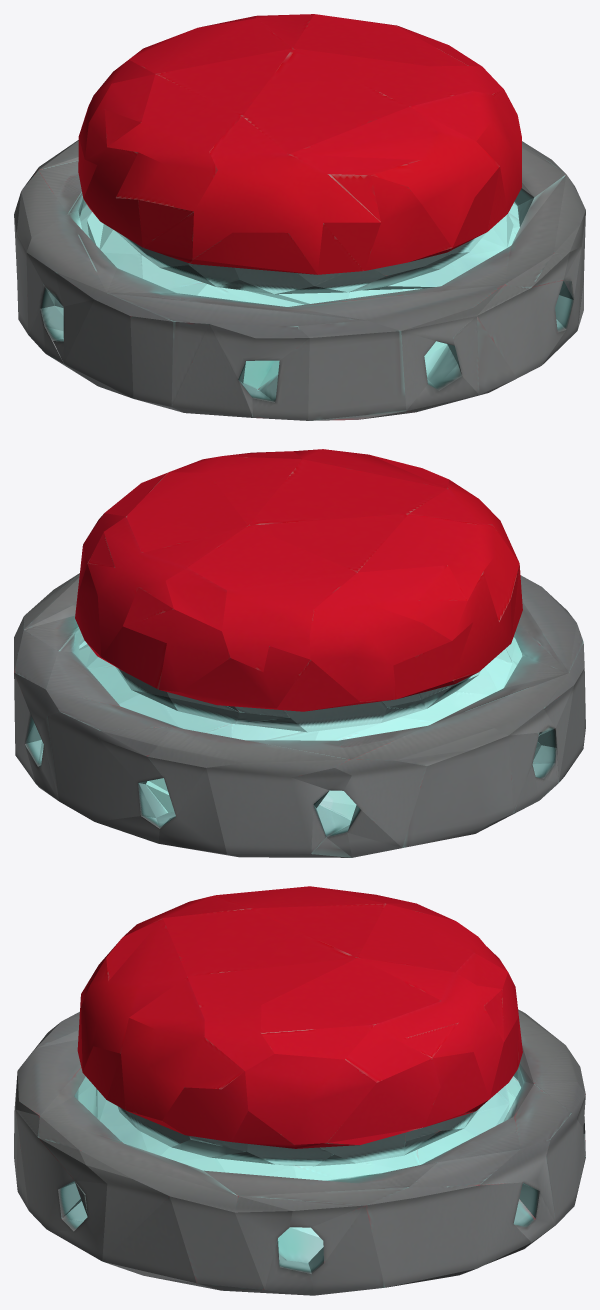
Rendered from switch.glb.
3 renders of one model, top to bottom at view 1: azimuth 30°, elevation 25°; view 2: azimuth 150°, elevation 25°; view 3: azimuth 270°, elevation 25°, orthographic.
Size of the model in its own units: 1.9 by 0.8491 by 1.9.
Materials: 1 (1 with a texture image).
